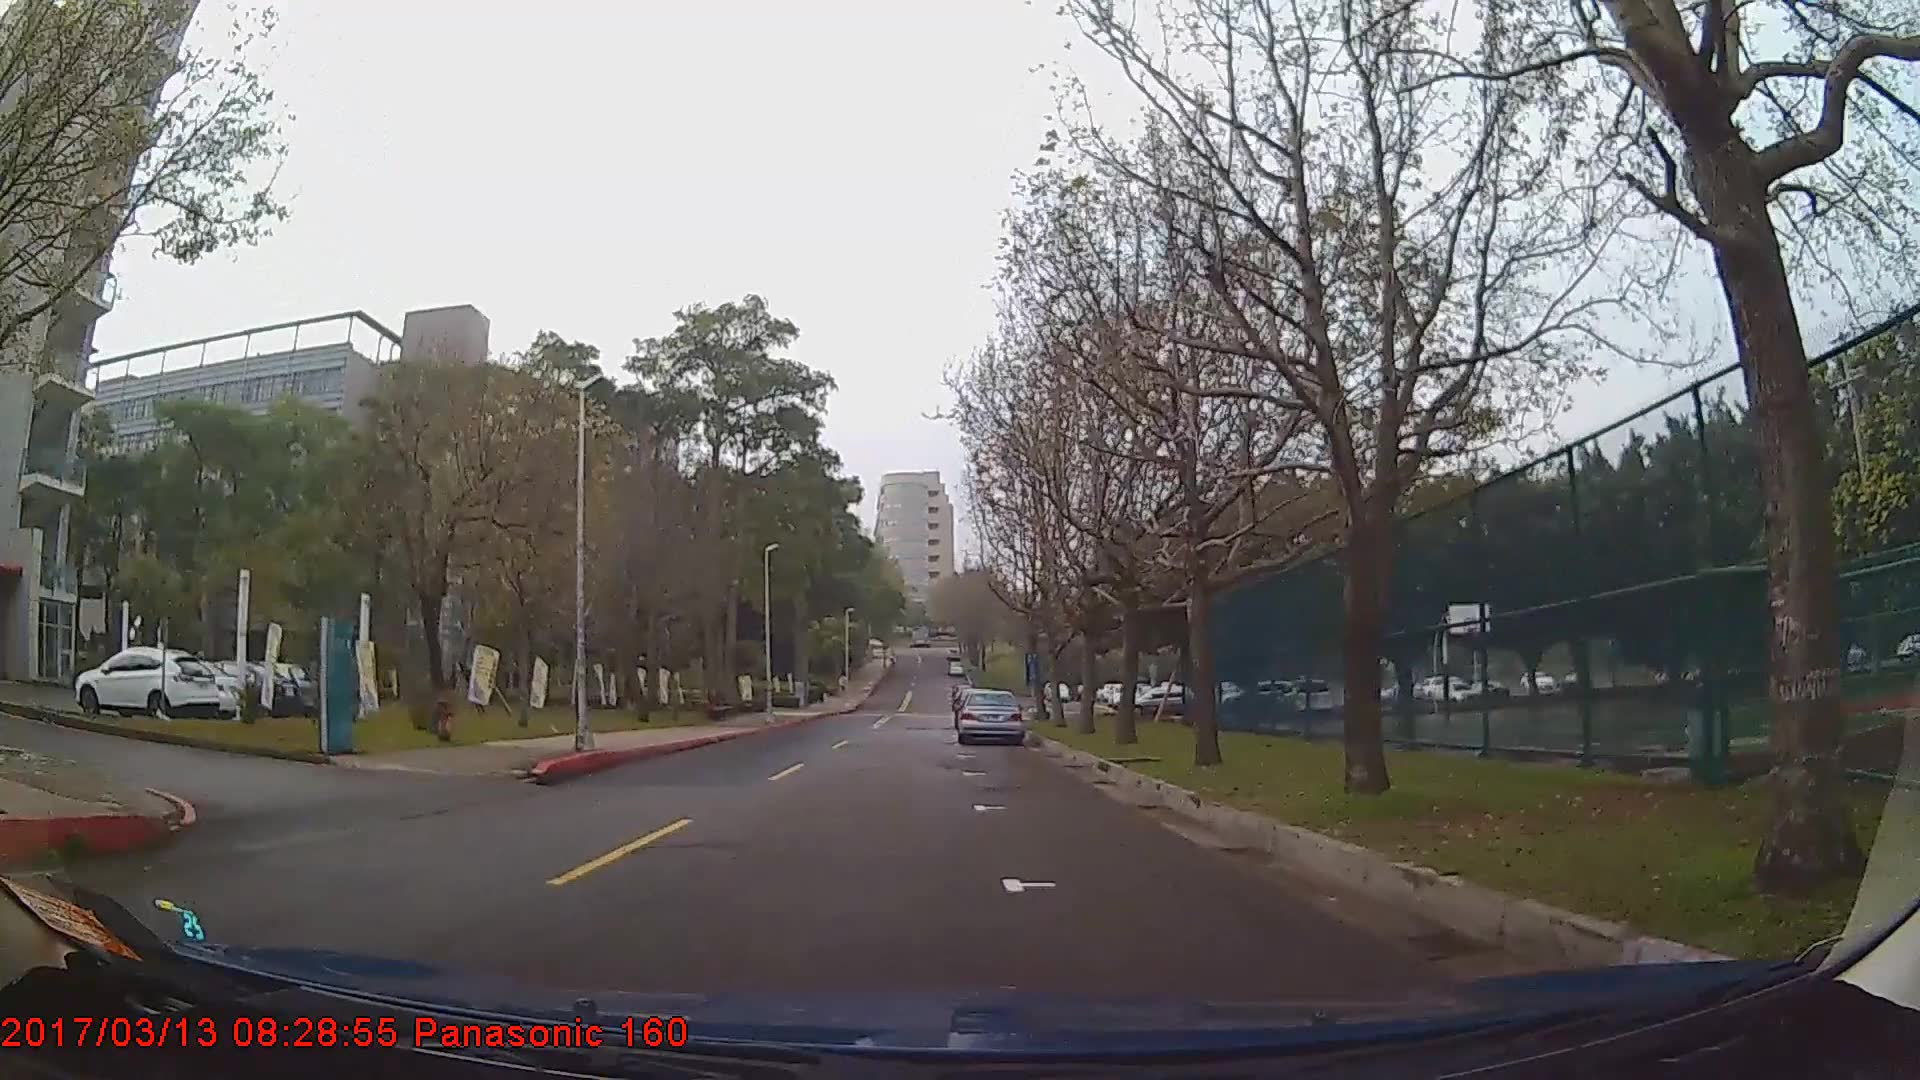vehicle: (71, 645, 220, 717), (957, 684, 1025, 742)
